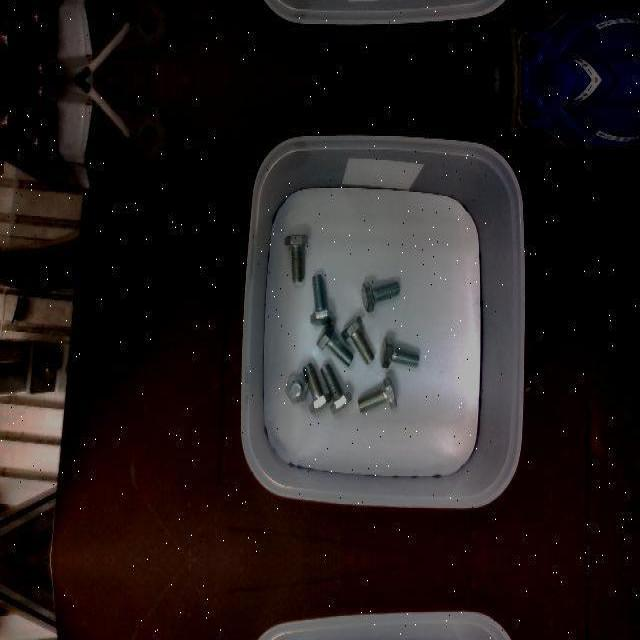screw: (341, 315, 374, 365), (320, 363, 352, 413), (315, 323, 353, 365), (303, 363, 331, 413), (358, 377, 397, 411), (380, 336, 420, 368), (362, 280, 400, 312), (309, 274, 333, 324), (283, 235, 307, 283), (285, 373, 308, 403)
